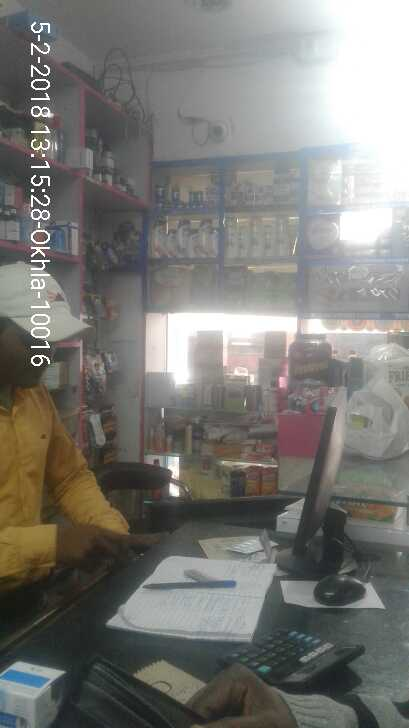vicks: (152, 176, 221, 212)
